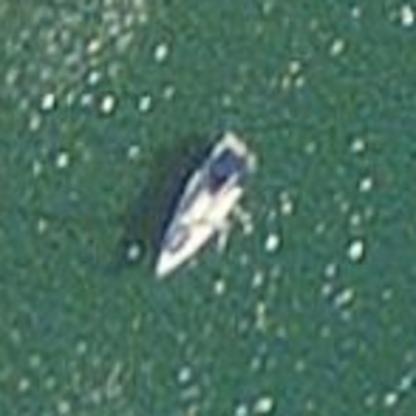ship: (138, 123, 266, 285)
